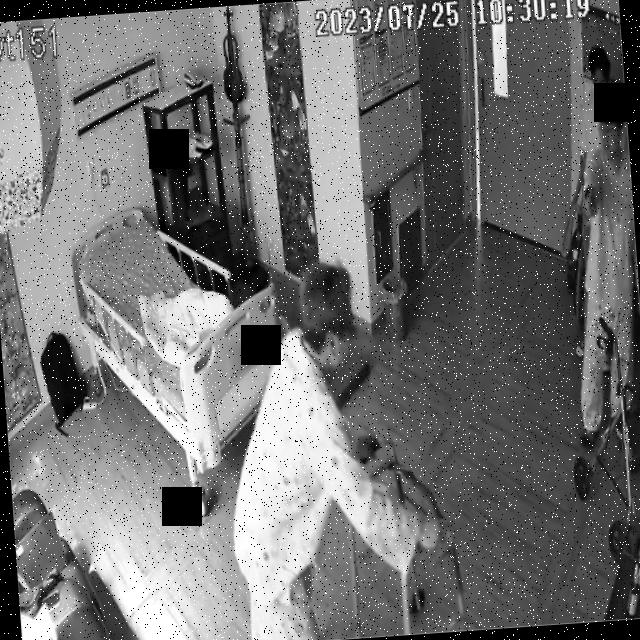bed: (68, 206, 292, 484)
patient: (211, 258, 444, 640), (555, 88, 640, 447)
stand: (210, 253, 446, 640), (555, 86, 640, 440)
walker: (338, 432, 466, 638), (564, 321, 640, 565)
